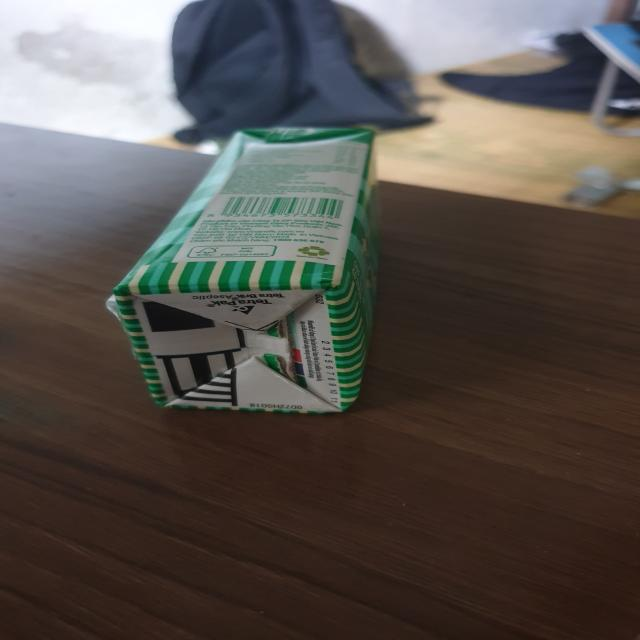Vina: (108, 131, 382, 414)
